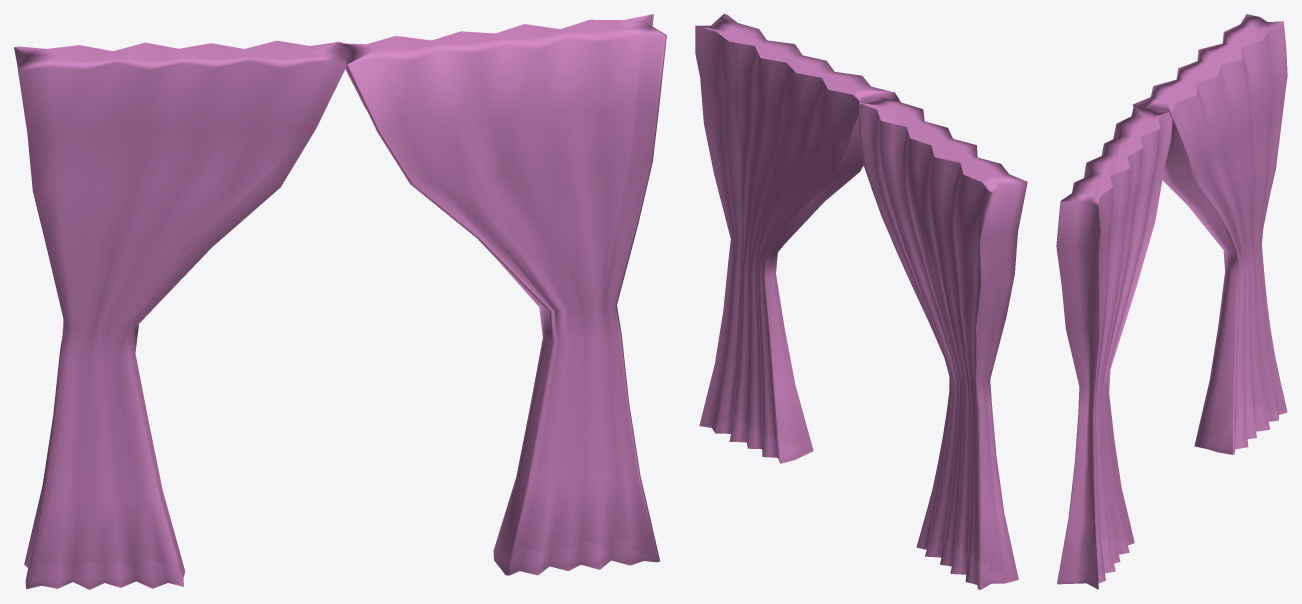
The model's file is Curtains.fbx.
3 views of the same model, side by side, from view 1: azimuth 30°, elevation 25°; view 2: azimuth 150°, elevation 25°; view 3: azimuth 270°, elevation 25° (orthographic). The views are drawn at different scales.
Visible parts, largest first — view 1: CurtainFinal1, CurtainFinal2; view 2: CurtainFinal1, CurtainFinal2; view 3: CurtainFinal2, CurtainFinal1.
Part boxes in pixels (x1,y1,x2,y2): CurtainFinal1: [334, 14, 666, 575]; CurtainFinal2: [14, 40, 346, 589]; CurtainFinal1: [695, 14, 891, 463]; CurtainFinal2: [859, 92, 1027, 589]; CurtainFinal2: [1132, 14, 1287, 454]; CurtainFinal1: [1056, 105, 1172, 589].
Bounding box in the file's own units: 4.95 × 4.61 × 2.51.
